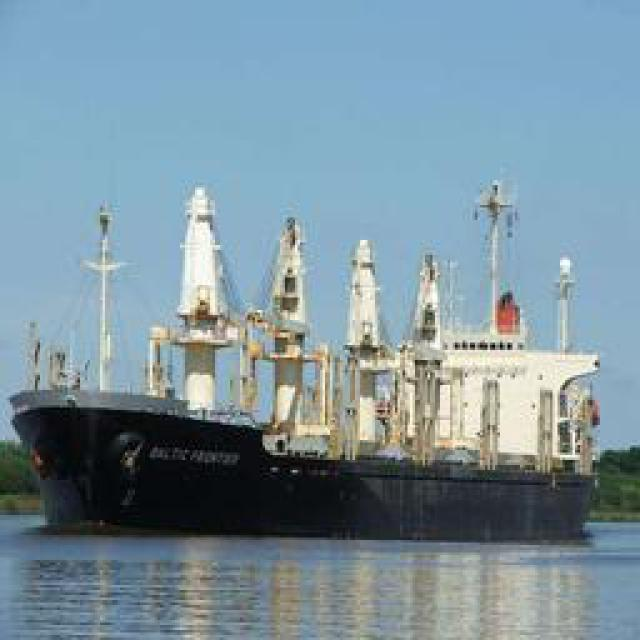Ship: (11, 166, 609, 524)
